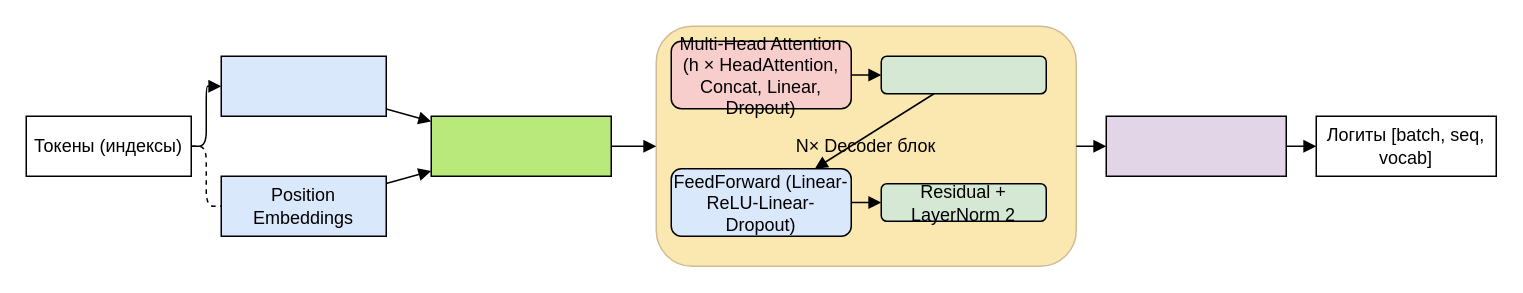
The diagram is 1523 pixels wide and 293 high, and some of its shapes have lost their labels. Here are the shapes that lost their labels. From the top down, the centre of each, then its label:
At (303,85): "Token Embeddings".
At (963,74): "Residual + LayerNorm 1".
At (520,145): "Сумма + Dropout".
At (1195,145): "Linear (emb→vocab)".
